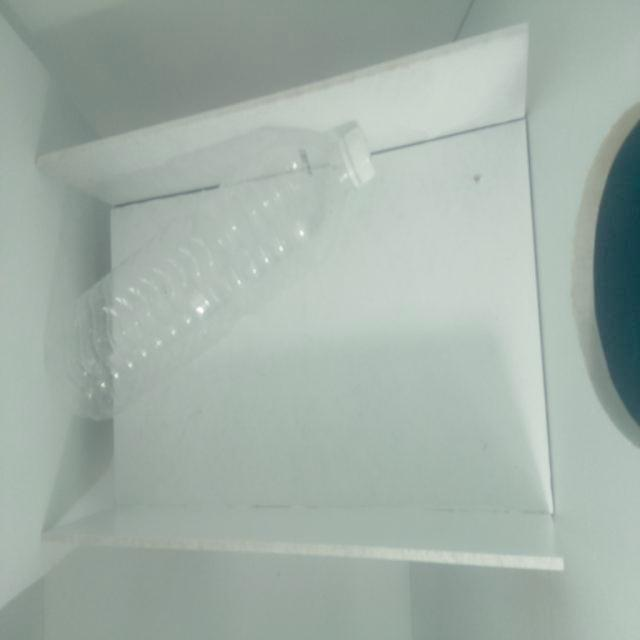bottle: (53, 126, 376, 422)
